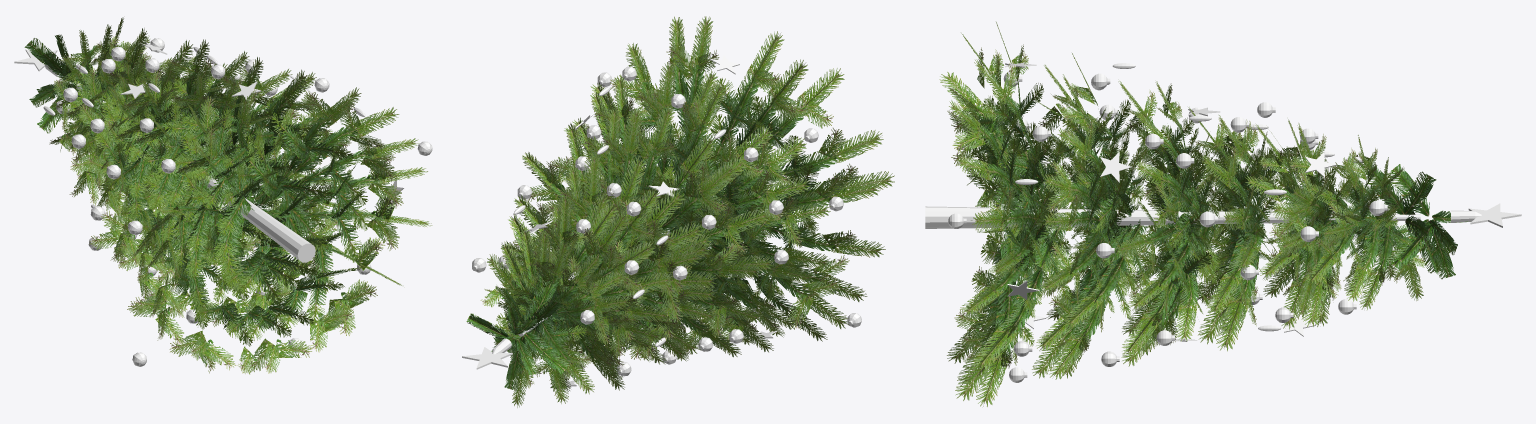
The picture shows the model from 3 angles, left to right: view 1: azimuth 30°, elevation 25°; view 2: azimuth 150°, elevation 25°; view 3: azimuth 270°, elevation 25°; orthographic projection. The views are drawn at different scales.
Parts seen in each view (by area): view 1: leaves_Plane085, Cylinder; view 2: leaves_Plane085, star001_Circle001; view 3: leaves_Plane085, Cylinder, star001_Circle001.
Boxes of the visible parts, x1=… form: leaves_Plane085: x1=24, y1=17, x2=432, y2=374; Cylinder: x1=76, y1=83, x2=315, y2=262; leaves_Plane085: x1=466, y1=16, x2=894, y2=407; star001_Circle001: x1=462, y1=338, x2=512, y2=369; leaves_Plane085: x1=939, y1=22, x2=1468, y2=406; Cylinder: x1=925, y1=206, x2=1420, y2=228; star001_Circle001: x1=1450, y1=203, x2=1521, y2=227.
Size of the model in its own units: 3.93 by 3.95 by 6.09.
Materials: 88 (1 with a texture image).
